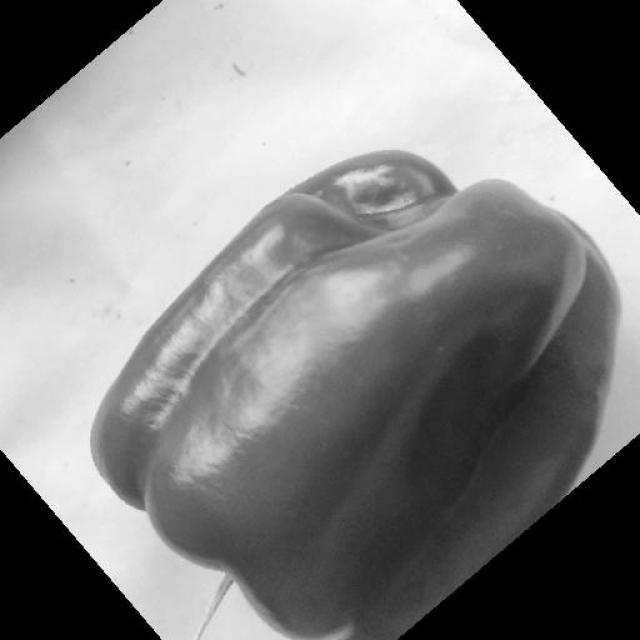Stale_Capsicum: (62, 171, 568, 556)
